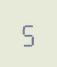five: (19, 19, 35, 47)
